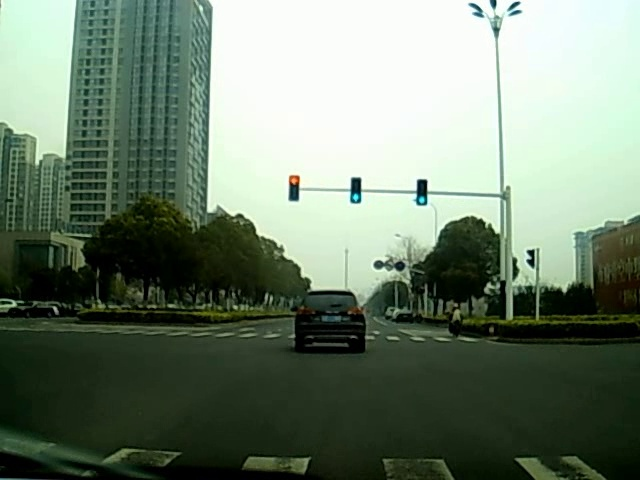Traffic_Light_go: (350, 179, 361, 204), (417, 180, 426, 204)
Traffic_Light_stop: (288, 176, 300, 198)
